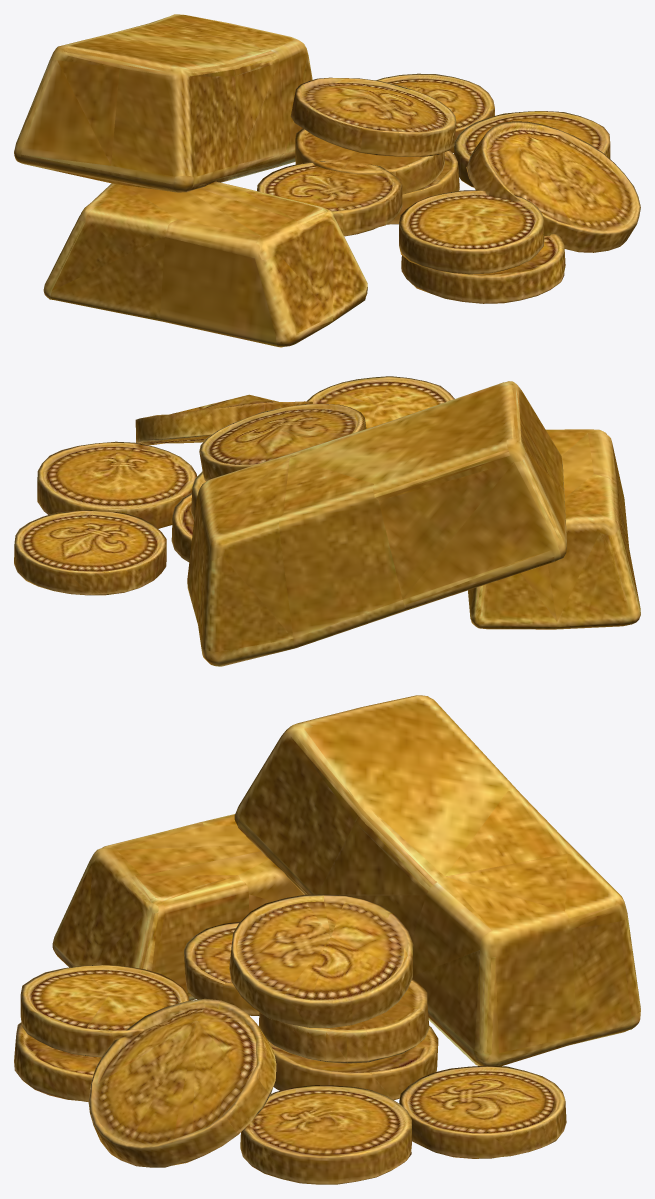
The model's file is res_oro.glb.
The picture shows the model from 3 angles, top to bottom: view 1: azimuth 30°, elevation 25°; view 2: azimuth 150°, elevation 25°; view 3: azimuth 270°, elevation 25°; orthographic projection. The views are drawn at different scales.
Bounding box in the file's own units: 0.9531 × 0.3306 × 0.8105.
Materials: 1 (1 with a texture image).
